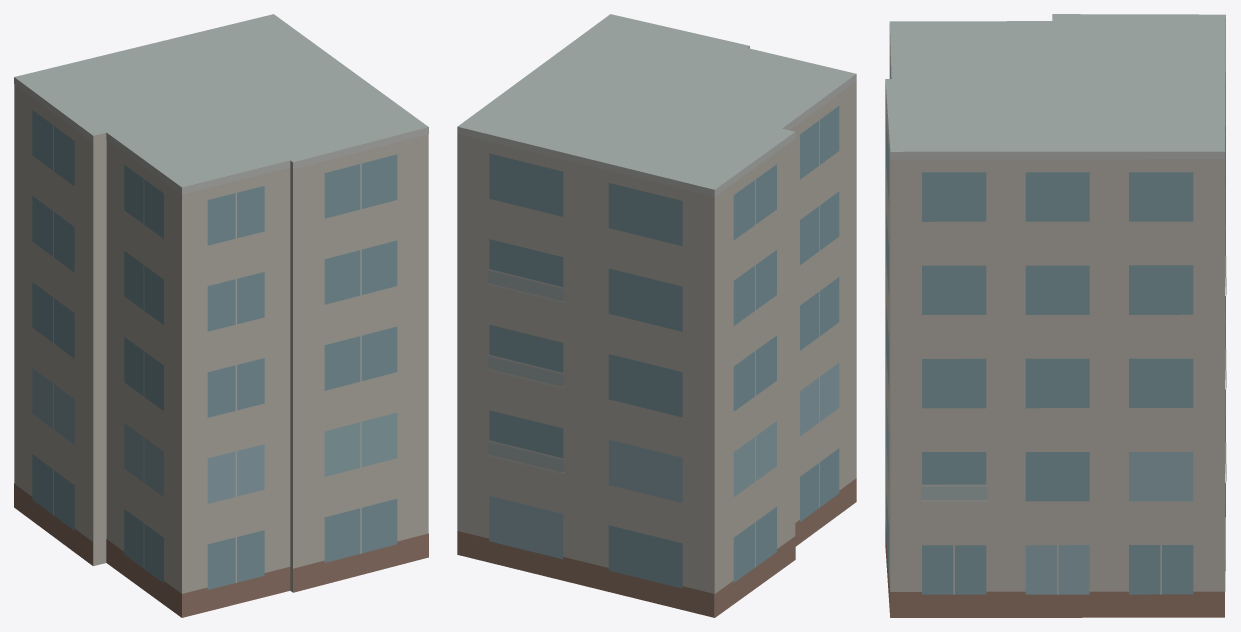
Rendered from survey-upis-32957597.glb.
The picture shows the model from 3 angles, left to right: view 1: azimuth 30°, elevation 25°; view 2: azimuth 150°, elevation 25°; view 3: azimuth 270°, elevation 25°; orthographic projection. The views are drawn at different scales.
Parts seen in each view (by area): view 1: survey-upis-32957597.tmp; view 2: survey-upis-32957597.tmp; view 3: survey-upis-32957597.tmp.
Boxes of the visible parts, box(x1,y1,x2,y2) form: survey-upis-32957597.tmp: box(14, 14, 428, 617); survey-upis-32957597.tmp: box(457, 14, 856, 617); survey-upis-32957597.tmp: box(885, 14, 1226, 617).
Size of the model in its own units: 9.55 by 15 by 9.96.
